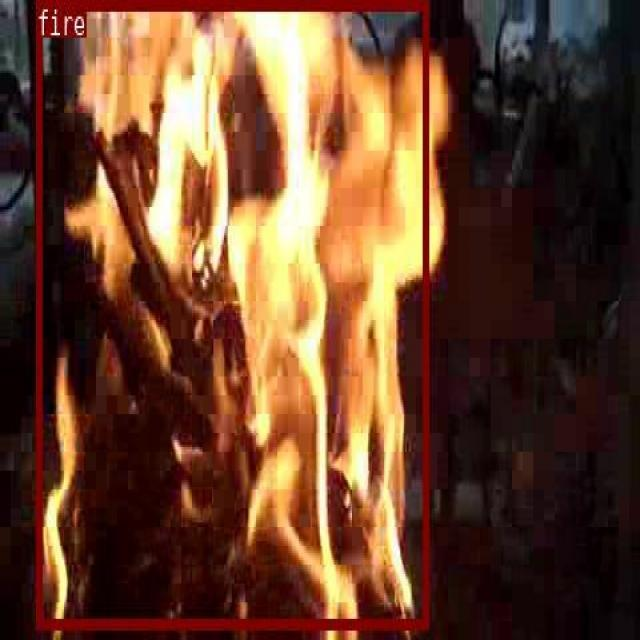fire: (36, 0, 428, 626)
